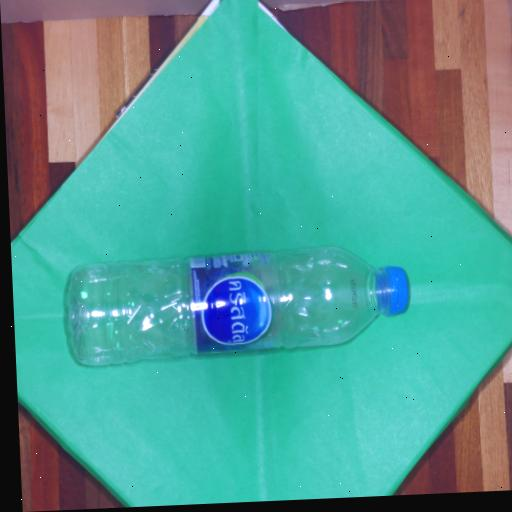bottle: (70, 248, 408, 365)
